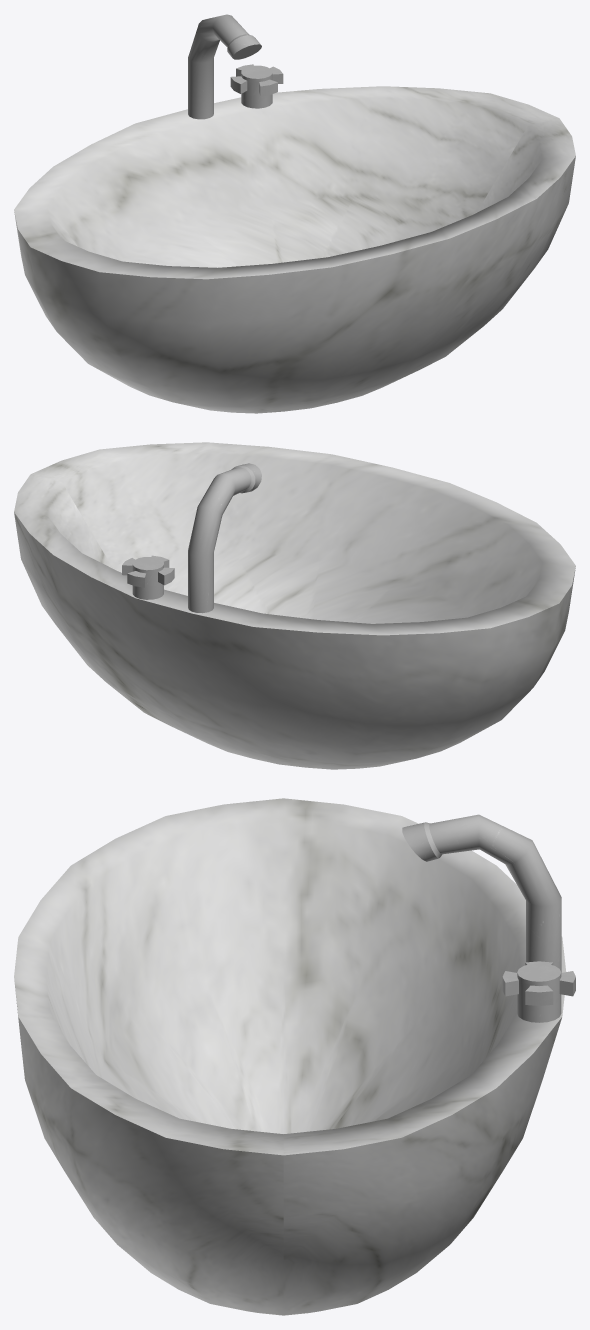
File: Sink.fbx
The picture shows the model from 3 angles, top to bottom: view 1: azimuth 30°, elevation 25°; view 2: azimuth 150°, elevation 25°; view 3: azimuth 270°, elevation 25°; orthographic projection. The views are drawn at different scales.
Visible parts, largest first — view 1: RT_IP_Furniture:bowl, RT_IP_Furniture:Tap, RT_IP_Furniture:turn; view 2: RT_IP_Furniture:bowl, RT_IP_Furniture:Tap, RT_IP_Furniture:turn; view 3: RT_IP_Furniture:bowl, RT_IP_Furniture:Tap, RT_IP_Furniture:turn.
Boxes of the visible parts, <box> form: RT_IP_Furniture:bowl: <box>14,86,575,413</box>; RT_IP_Furniture:Tap: <box>188,14,261,119</box>; RT_IP_Furniture:turn: <box>230,64,283,108</box>; RT_IP_Furniture:bowl: <box>14,442,575,769</box>; RT_IP_Furniture:Tap: <box>188,463,261,613</box>; RT_IP_Furniture:turn: <box>122,555,174,599</box>; RT_IP_Furniture:bowl: <box>14,798,566,1315</box>; RT_IP_Furniture:Tap: <box>402,814,561,972</box>; RT_IP_Furniture:turn: <box>502,961,575,1022</box>.
Bounding box in the file's own units: 0.9528 × 0.5608 × 0.6337.
